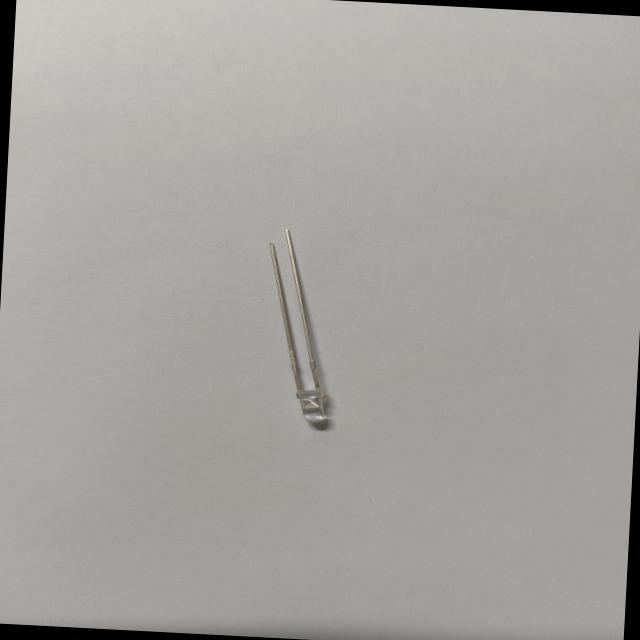led: (248, 220, 354, 441)
